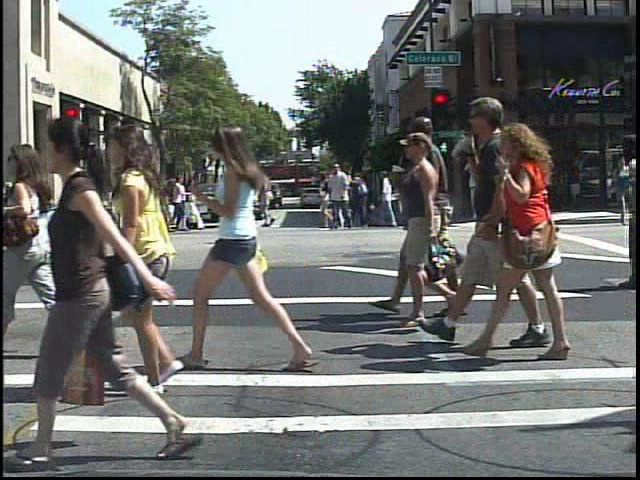person: (31, 102, 181, 471), (196, 111, 326, 380), (107, 117, 218, 397), (427, 83, 536, 351), (490, 118, 587, 363), (0, 138, 73, 359), (113, 161, 146, 242), (68, 163, 98, 242), (464, 158, 495, 231), (26, 168, 53, 243), (96, 180, 116, 223), (5, 176, 11, 241)
